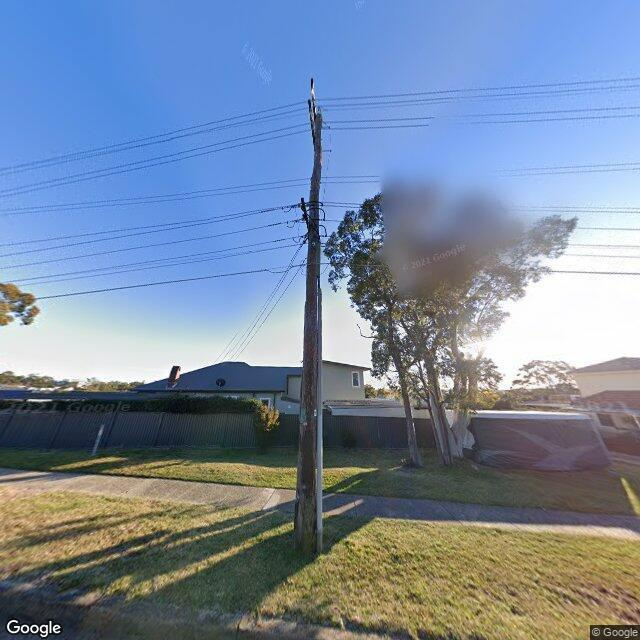HV-transmission: (307, 78, 333, 154)
crossarm: (301, 196, 310, 236), (309, 107, 316, 150), (310, 89, 316, 122)
timber-pole: (294, 113, 325, 555)
